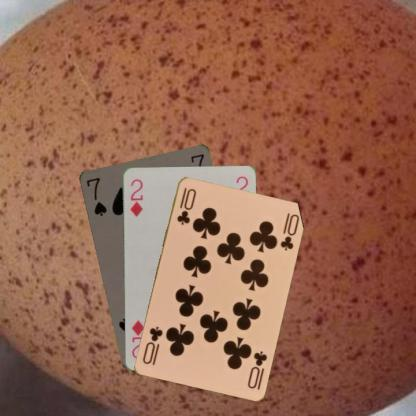10c: (244, 348, 268, 389), (174, 184, 197, 226)
2d: (128, 176, 144, 218)
7s: (83, 174, 108, 218)
